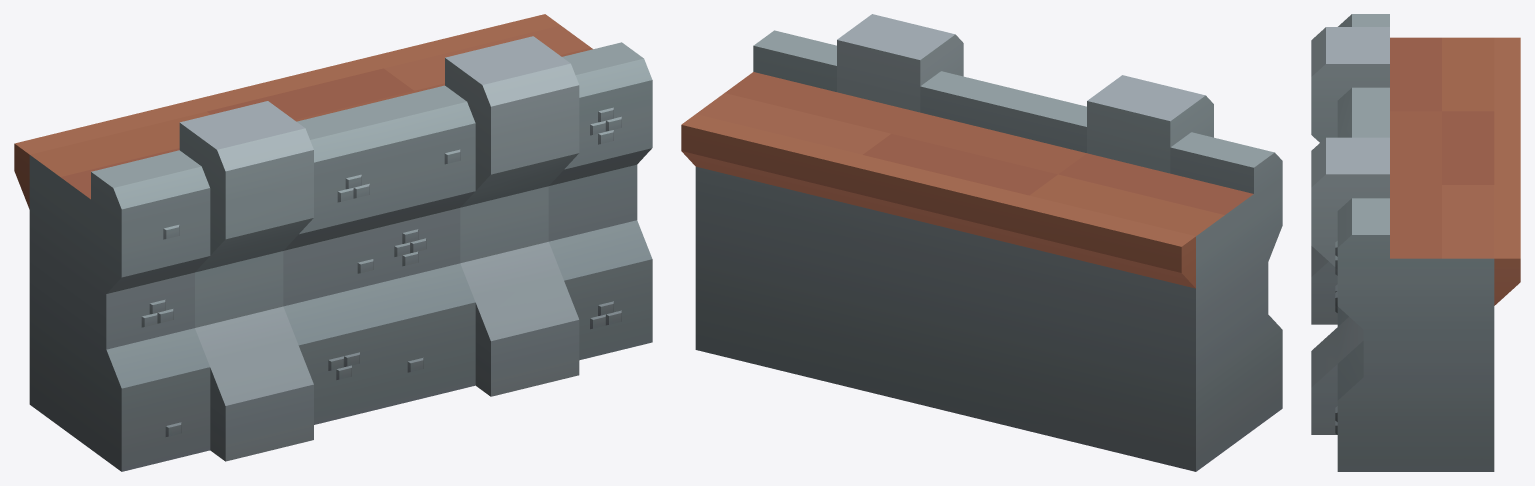
Rendered from wall_straight.glb.
3 views of the same model, side by side, from view 1: azimuth 30°, elevation 25°; view 2: azimuth 150°, elevation 25°; view 3: azimuth 270°, elevation 25° (orthographic). The views are drawn at different scales.
Parts seen in each view (by area): view 1: wall_straight; view 2: wall_straight; view 3: wall_straight.
Boxes of the visible parts, x1,y1,x2,y2 form: wall_straight: (14, 14, 652, 471); wall_straight: (681, 14, 1282, 471); wall_straight: (1311, 14, 1520, 471).
Size of the model in its own units: 2 by 1.1 by 0.8.
Materials: 1 (1 with a texture image).
